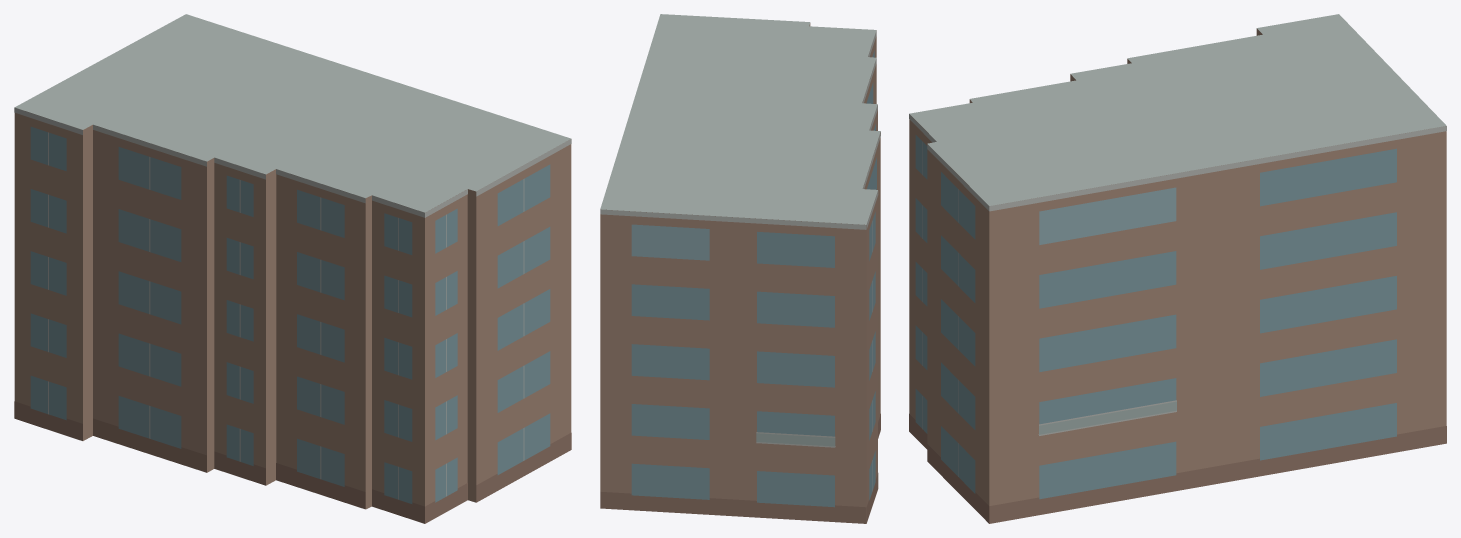
File: survey-upis-32873250.glb
3 renders of one model, left to right at view 1: azimuth 30°, elevation 25°; view 2: azimuth 150°, elevation 25°; view 3: azimuth 270°, elevation 25°, orthographic. The views are drawn at different scales.
Parts seen in each view (by area): view 1: survey-upis-32873250.tmp; view 2: survey-upis-32873250.tmp; view 3: survey-upis-32873250.tmp.
Part boxes in pixels (<box>): survey-upis-32873250.tmp: <box>14,14,571,523</box>; survey-upis-32873250.tmp: <box>600,14,880,523</box>; survey-upis-32873250.tmp: <box>909,14,1446,523</box>.
Size of the model in its own units: 18.95 by 14.6 by 22.4.
